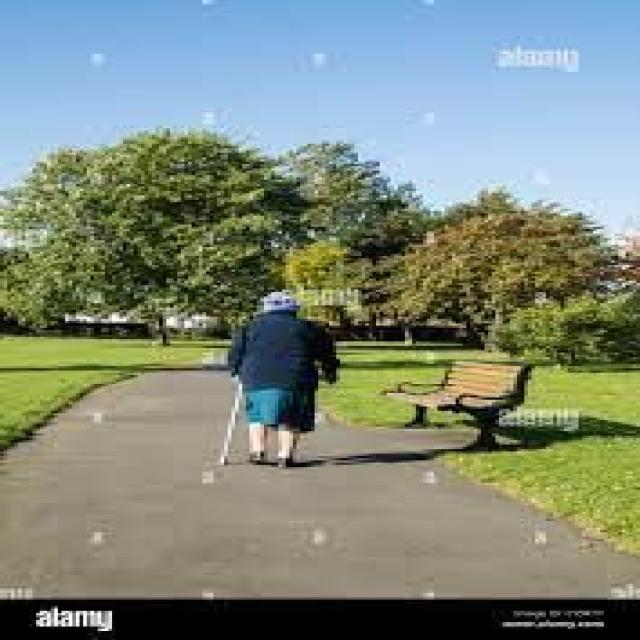idoso em pe: (199, 283, 367, 467)
